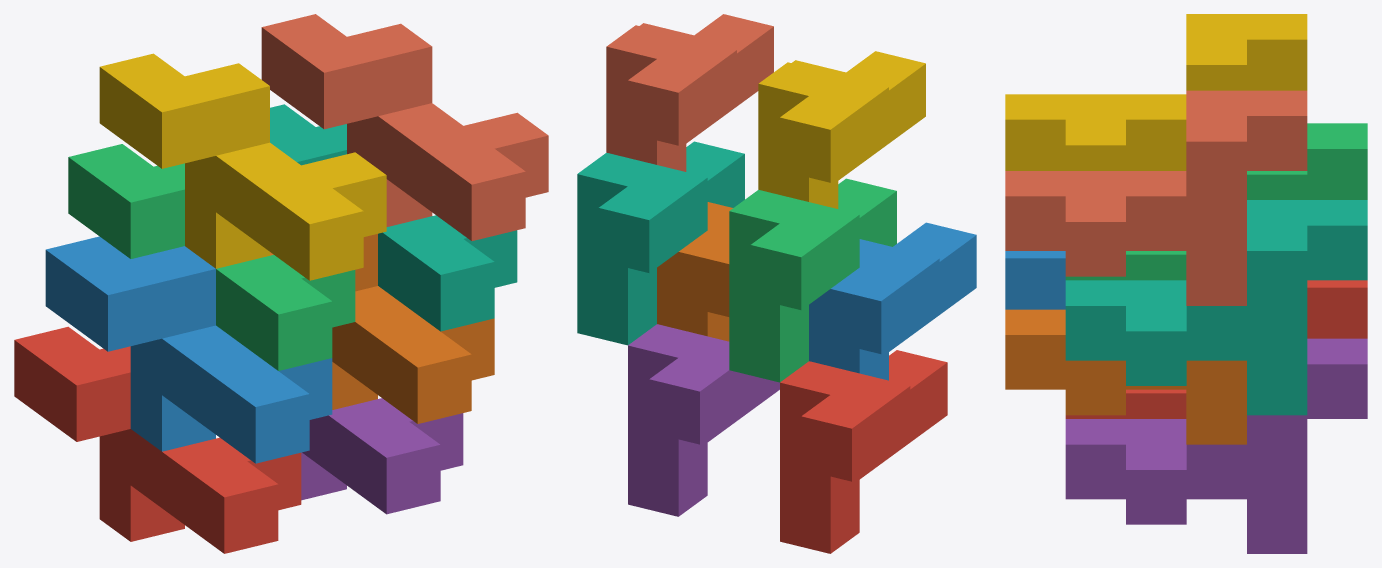
Rendered from tiling.obj.
The picture shows the model from 3 angles, left to right: view 1: azimuth 30°, elevation 25°; view 2: azimuth 150°, elevation 25°; view 3: azimuth 270°, elevation 25°; orthographic projection. The views are drawn at different scales.
Visible parts, largest first — view 1: copy_1_domain_4, copy_1_domain_2, copy_1_domain_8, copy_1_domain_1, copy_1_domain_3, copy_1_domain_6, copy_1_domain_7, copy_1_domain_5; view 2: copy_1_domain_1, copy_1_domain_3, copy_1_domain_7, copy_1_domain_4, copy_1_domain_8, copy_1_domain_5, copy_1_domain_2, copy_1_domain_6; view 3: copy_1_domain_8, copy_1_domain_7, copy_1_domain_5, copy_1_domain_4, copy_1_domain_6, copy_1_domain_3, copy_1_domain_1, copy_1_domain_2.
Part boxes in pixels (x1,y1,x2,y2): copy_1_domain_4: [99, 53, 386, 280]; copy_1_domain_2: [45, 236, 332, 463]; copy_1_domain_8: [261, 14, 548, 240]; copy_1_domain_1: [14, 326, 301, 553]; copy_1_domain_3: [68, 144, 355, 370]; copy_1_domain_6: [270, 234, 494, 423]; copy_1_domain_7: [270, 104, 517, 331]; copy_1_domain_5: [301, 398, 463, 514]; copy_1_domain_1: [780, 350, 947, 553]; copy_1_domain_3: [729, 178, 896, 382]; copy_1_domain_7: [577, 141, 744, 345]; copy_1_domain_4: [758, 51, 925, 208]; copy_1_domain_8: [606, 14, 773, 171]; copy_1_domain_5: [628, 324, 779, 516]; copy_1_domain_2: [809, 222, 976, 380]; copy_1_domain_6: [657, 202, 732, 341]; copy_1_domain_8: [1005, 90, 1307, 305]; copy_1_domain_7: [1065, 200, 1367, 415]; copy_1_domain_5: [1065, 338, 1367, 553]; copy_1_domain_4: [1005, 14, 1307, 170]; copy_1_domain_6: [1005, 309, 1246, 444]; copy_1_domain_3: [1065, 123, 1367, 280]; copy_1_domain_1: [1065, 280, 1367, 418]; copy_1_domain_2: [1005, 251, 1065, 309].
Bounding box in the file's own units: 7 × 8 × 6.
